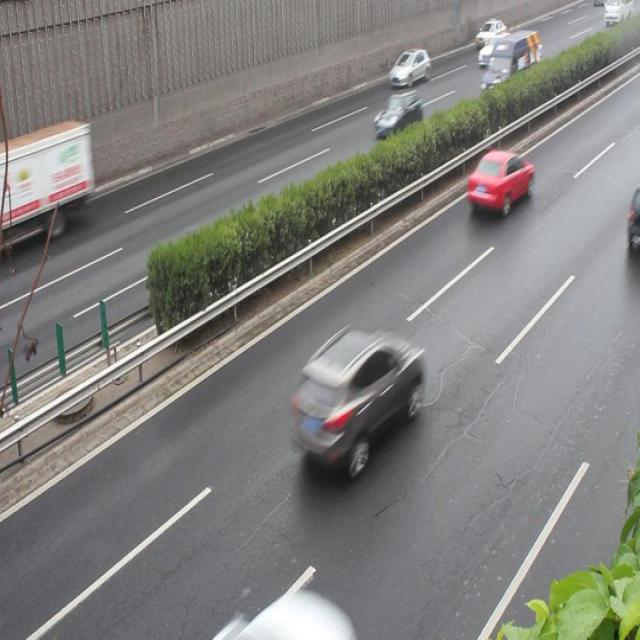car: (289, 324, 422, 467), (466, 149, 531, 212), (372, 89, 419, 139)
